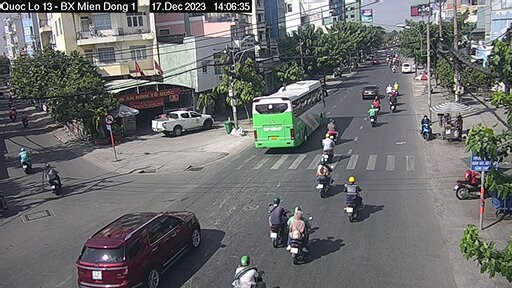bus: (250, 76, 328, 151)
car: (76, 208, 200, 288), (153, 109, 214, 136), (360, 81, 381, 101), (401, 62, 414, 74)
motorbike: (262, 202, 291, 249), (291, 209, 315, 262), (455, 172, 489, 202), (343, 177, 365, 219), (16, 144, 38, 175), (44, 158, 61, 196), (315, 164, 335, 196), (320, 133, 335, 165), (418, 114, 434, 142), (367, 105, 379, 128), (387, 93, 399, 114)
